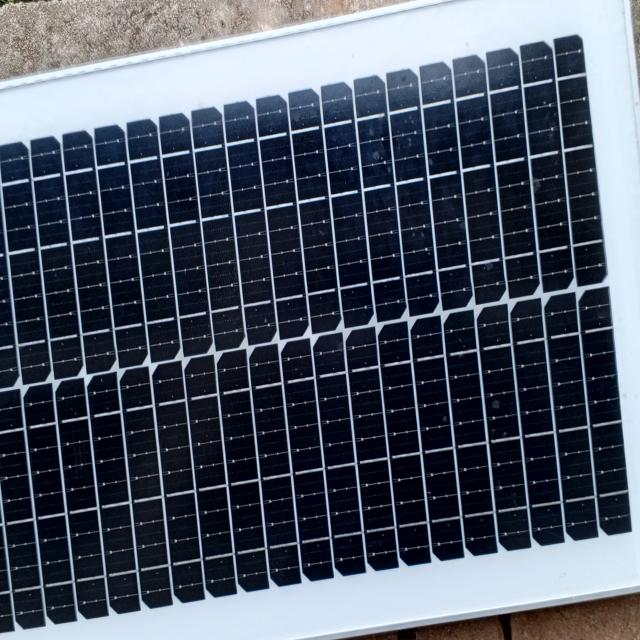Clean: (1, 115, 640, 544)
